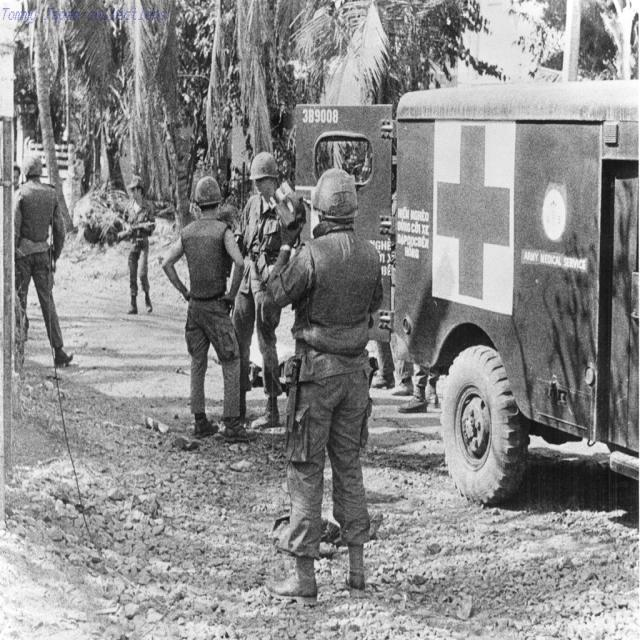Ambulance: (296, 78, 640, 505)
